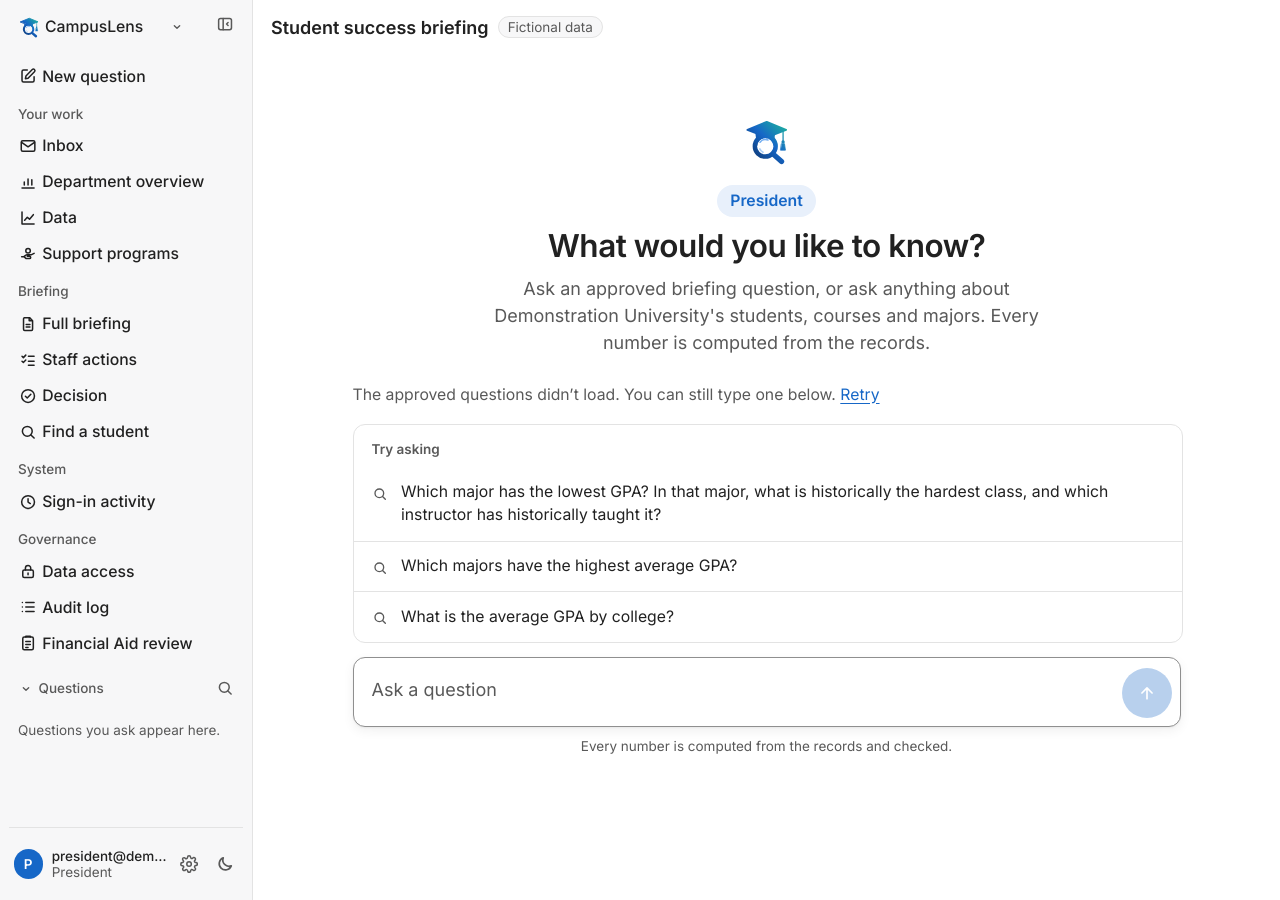
Test case: wiring of the panels › shows a quiet Retry line when the approved questions fail to load
expect the text "The approved questions didn’t load. You can still type one below. Retry" is shown: met, box [352,382,880,406]
Click the button "Retry". click: (860, 394)
box: [840,382,880,406]
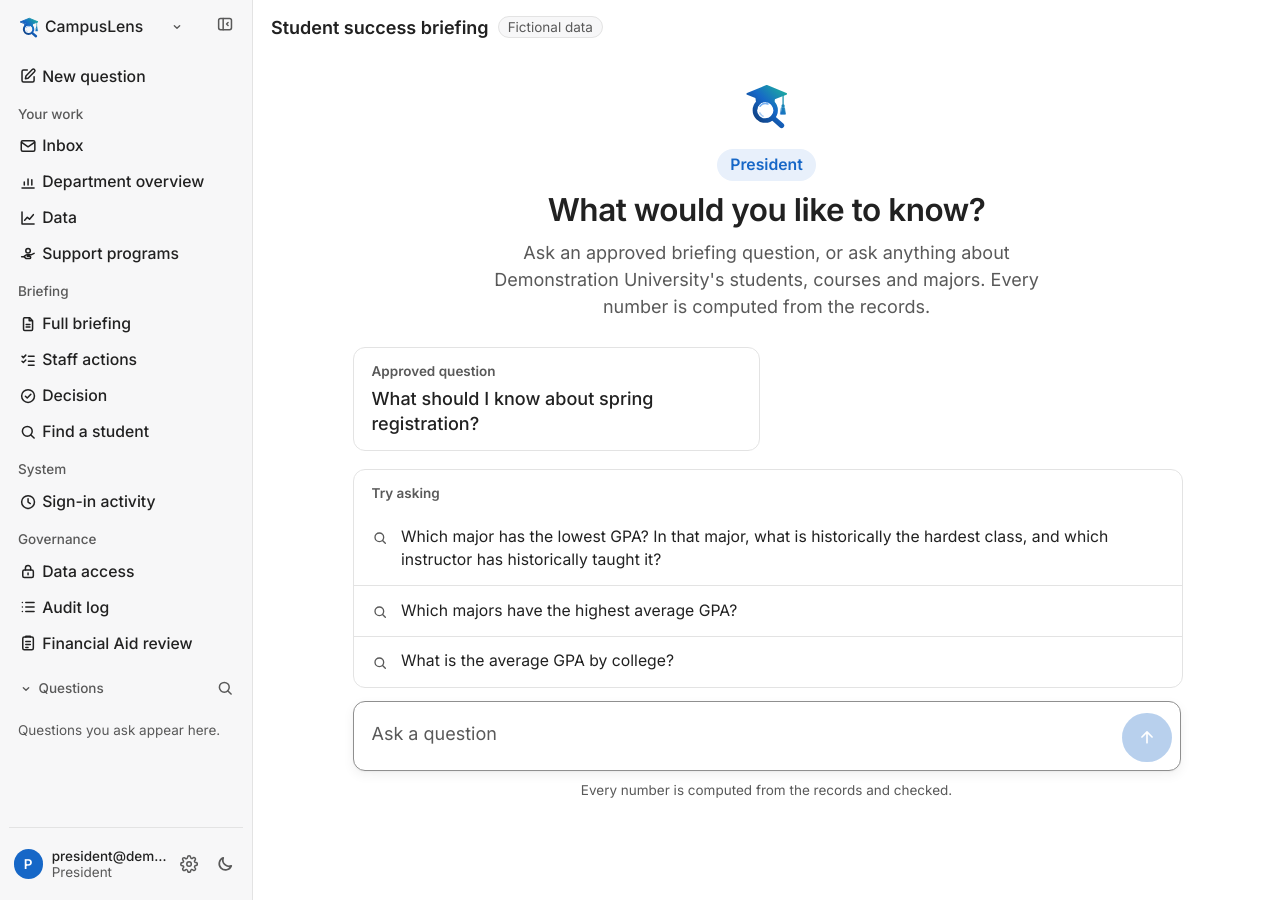
expect the text "What should I know about spring registration?" is shown: met, box [372,388,654,434]
expect the text "The approved questions didn’t load" is gone: met
